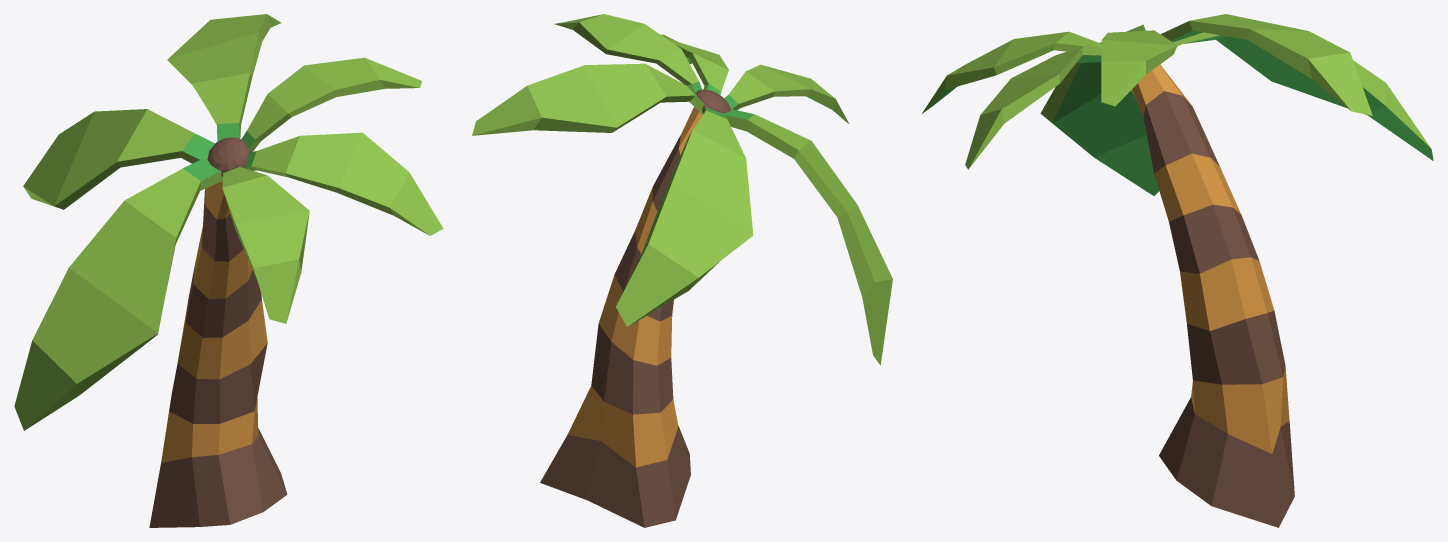
File: burton-palm-tree.glb
The picture shows the model from 3 angles, left to right: view 1: azimuth 30°, elevation 25°; view 2: azimuth 150°, elevation 25°; view 3: azimuth 270°, elevation 25°; orthographic projection. The views are drawn at different scales.
Parts seen in each view (by area): view 1: group1359178637, group1112431478, group470601898, group122191364, group1390484995, group700033534, group638403538, group368375962; view 2: group1359178637, group470601898, group700033534, group1112431478, group638403538, group1390484995, group122191364, group368375962; view 3: group1359178637, group1112431478, group700033534, group470601898, group122191364, group638403538, group1390484995.
Part boxes in pixels (box(x1,y1,x2,y2)): group1359178637: box(149, 181, 287, 527); group1112431478: box(14, 158, 222, 430); group470601898: box(23, 109, 215, 209); group122191364: box(243, 132, 443, 235); group1390484995: box(222, 166, 309, 323); group700033534: box(167, 14, 281, 141); group638403538: box(241, 57, 421, 151); group368375962: box(207, 137, 250, 176); group1359178637: box(540, 107, 702, 527); group470601898: box(616, 107, 753, 326); group700033534: box(472, 63, 704, 135); group1112431478: box(723, 109, 892, 365); group638403538: box(554, 14, 702, 93); group1390484995: box(724, 64, 848, 123); group122191364: box(661, 34, 728, 94); group368375962: box(695, 89, 730, 113); group1359178637: box(1131, 64, 1294, 527); group1112431478: box(1040, 24, 1159, 195); group700033534: box(1160, 14, 1372, 115); group470601898: box(1173, 32, 1433, 160); group122191364: box(965, 46, 1101, 169); group638403538: box(1101, 30, 1177, 106); group1390484995: box(922, 31, 1101, 113).
Bounding box in the file's own units: 2.6 × 3.1 × 2.9.
